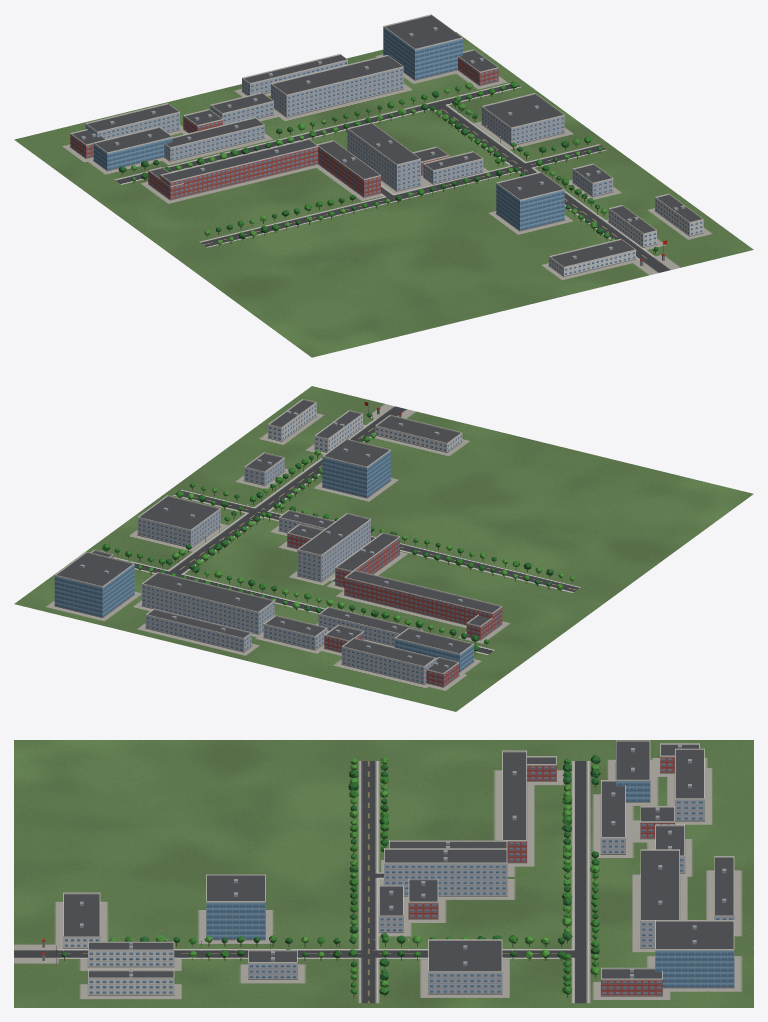
The model's file is campus.dae.
3 views of the same model, one above another, from view 1: azimuth 30°, elevation 25°; view 2: azimuth 150°, elevation 25°; view 3: azimuth 270°, elevation 25° (orthographic). The views are drawn at different scales.
Visible parts, largest first — view 1: campus (×12); view 2: campus (×12); view 3: campus (×12).
Part boxes in pixels (x1,y1,x2,y2): campus (×12): [14, 14, 753, 357]; campus (×12): [14, 386, 753, 711]; campus (×12): [14, 740, 753, 1007].
Size of what is drawn, in the model's own units: 386 by 450 by 26.8.
Materials: 17 (5 with a texture image).
